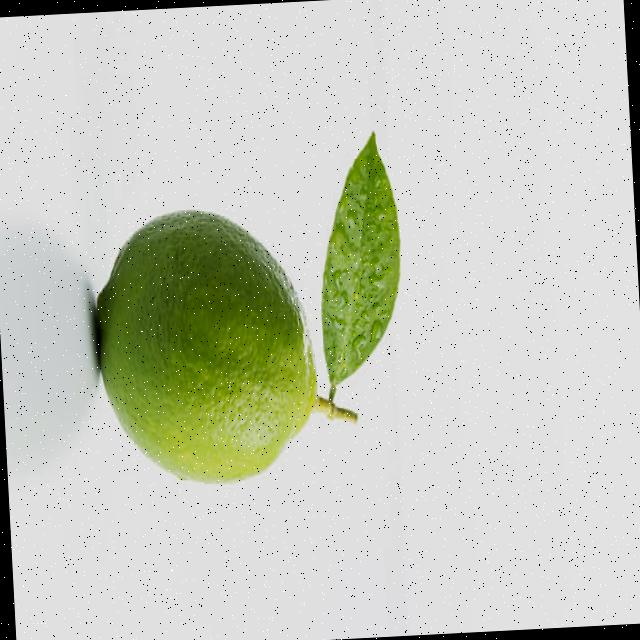Unripe: (88, 200, 325, 490)
